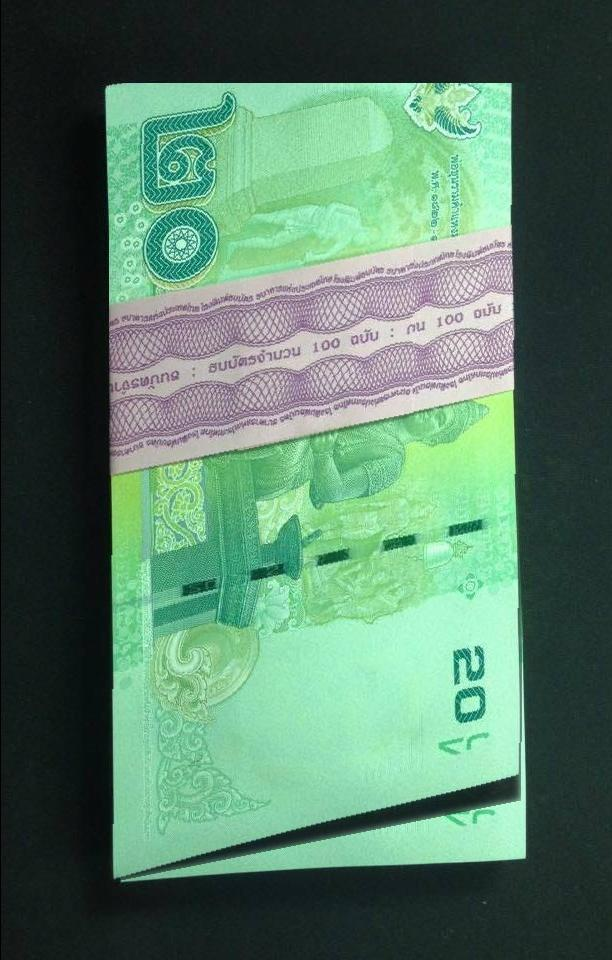20BahtTai: (110, 84, 528, 885)
